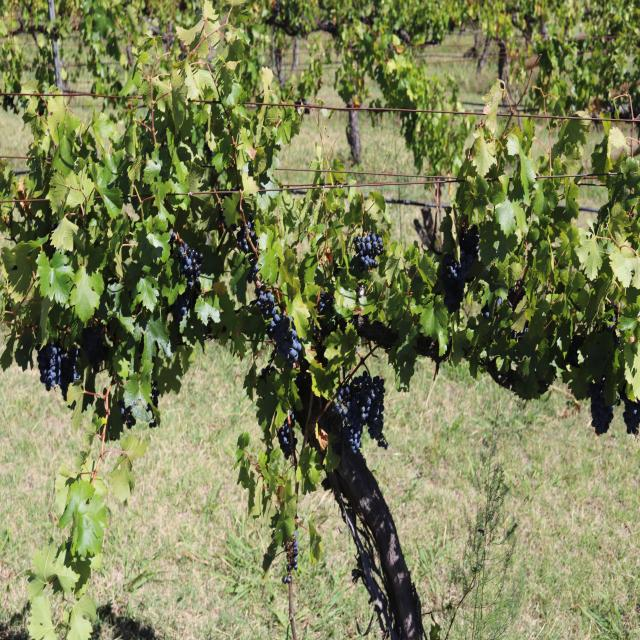grapes: (335, 371, 388, 452), (255, 287, 302, 368), (441, 225, 479, 314), (172, 242, 203, 324), (37, 343, 79, 400), (441, 253, 468, 314), (586, 378, 613, 435), (82, 323, 107, 373), (353, 232, 383, 271), (282, 531, 299, 583), (623, 396, 640, 436), (276, 422, 291, 459)
stem: (236, 221, 259, 283), (274, 287, 284, 311)
